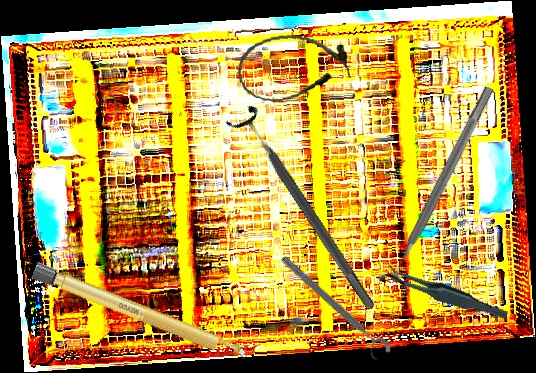Cannula: (233, 27, 354, 107)
Fixation Ring: (223, 101, 387, 319), (377, 80, 506, 295), (272, 252, 395, 365)
Scalpel Handle: (30, 261, 251, 365)
Tissue Forceps: (382, 242, 510, 344)
